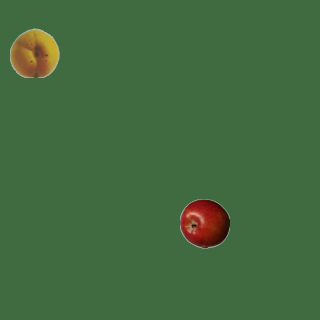Apple Braeburn: (179, 198, 229, 248)
Peach 2: (9, 27, 59, 77)
